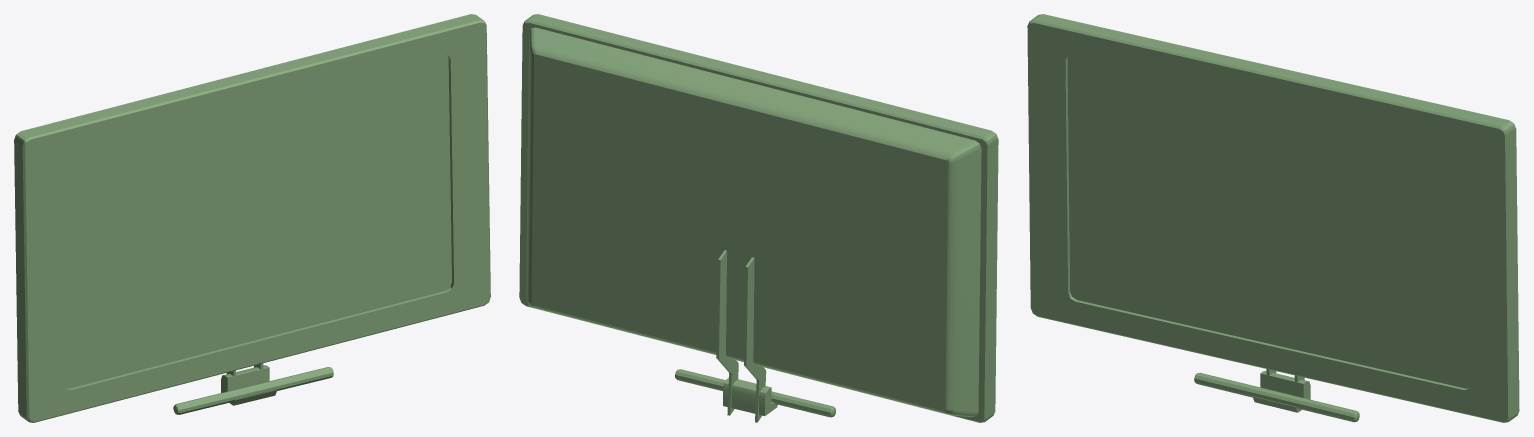
Rendered from Monitor.fbx.
3 renders of one model, left to right at view 1: azimuth 30°, elevation 25°; view 2: azimuth 150°, elevation 25°; view 3: azimuth 330°, elevation 25°, orthographic. The views are drawn at different scales.
Parts seen in each view (by area): view 1: Monitor; view 2: Monitor; view 3: Monitor.
Boxes of the visible parts, bbox=[...] form: Monitor: bbox=[14, 14, 490, 422]; Monitor: bbox=[519, 14, 998, 422]; Monitor: bbox=[1027, 14, 1519, 422].
Size of the model in its own units: 16.6 by 11.4 by 1.95.
